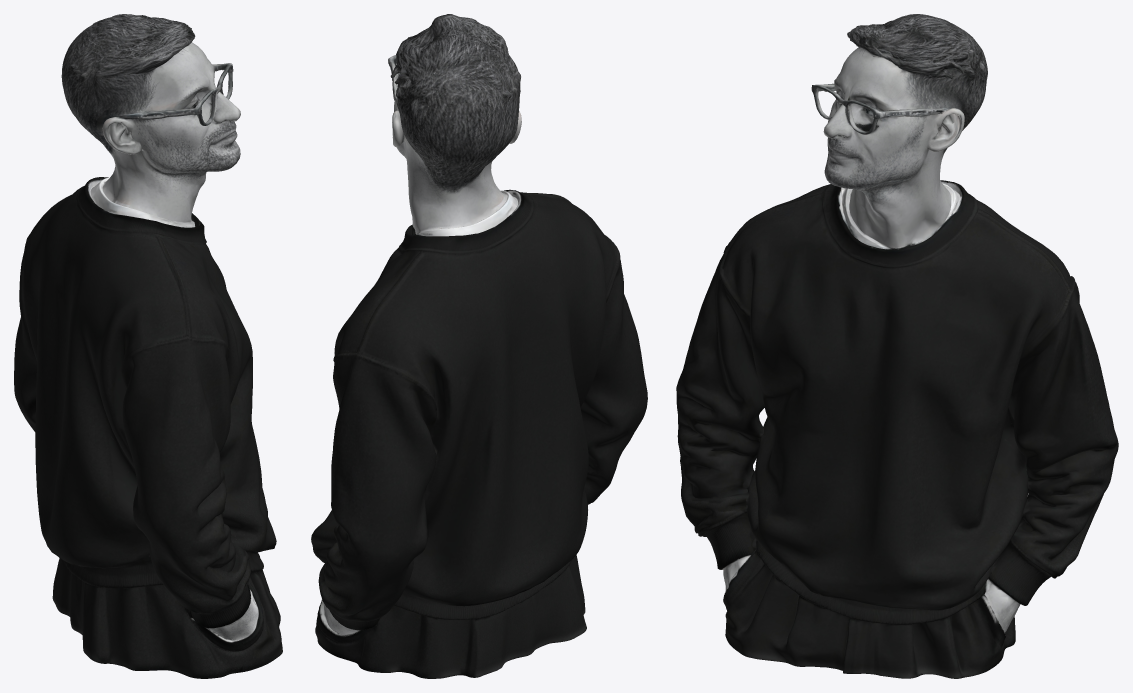
The model's file is miguel-portrait.glb.
The picture shows the model from 3 angles, left to right: view 1: azimuth 30°, elevation 25°; view 2: azimuth 150°, elevation 25°; view 3: azimuth 270°, elevation 25°; orthographic projection. The views are drawn at different scales.
Visible parts, largest first — view 1: tripo_node_67065a7e-ae7d-4c88-8238-f4bc73796c4e; view 2: tripo_node_67065a7e-ae7d-4c88-8238-f4bc73796c4e; view 3: tripo_node_67065a7e-ae7d-4c88-8238-f4bc73796c4e.
Part boxes in pixels (box(x1,y1,x2,y2)): tripo_node_67065a7e-ae7d-4c88-8238-f4bc73796c4e: box(14, 14, 282, 678); tripo_node_67065a7e-ae7d-4c88-8238-f4bc73796c4e: box(311, 14, 647, 678); tripo_node_67065a7e-ae7d-4c88-8238-f4bc73796c4e: box(676, 14, 1118, 678).
Size of the model in its own units: 0.3691 by 0.982 by 0.6483.
1 material, 1 textured.
